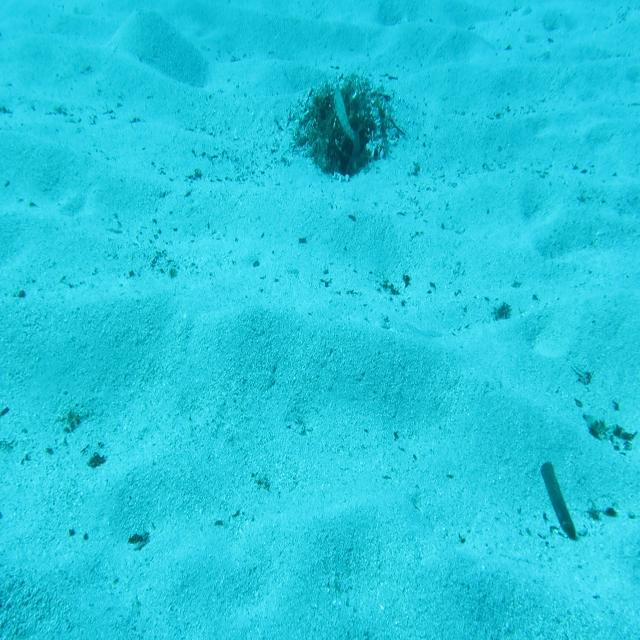INS: (328, 84, 361, 144)
nest: (299, 77, 413, 181)
vegetation: (540, 458, 576, 542), (585, 409, 635, 454), (485, 298, 514, 329)
